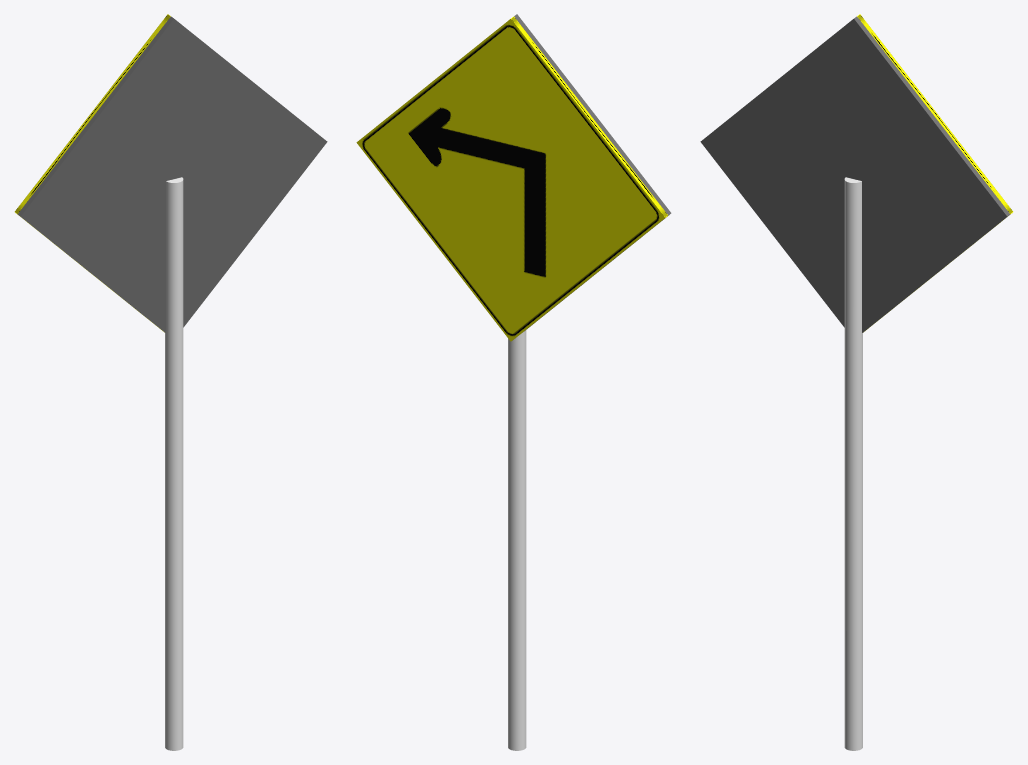
File: Sign_TurnLeft.obj
3 renders of one model, left to right at view 1: azimuth 30°, elevation 25°; view 2: azimuth 150°, elevation 25°; view 3: azimuth 330°, elevation 25°, orthographic.
Parts seen in each view (by area): view 1: Box003, Cylinder002, Box002; view 2: Box002, Cylinder002, Box003; view 3: Box003, Cylinder002, Box002.
Boxes of the visible parts, x1,y1,x2,y2 form: Box003: (17, 16, 327, 332); Cylinder002: (165, 177, 183, 750); Box002: (14, 14, 170, 332); Box002: (356, 16, 667, 341); Cylinder002: (508, 330, 526, 750); Box003: (514, 14, 671, 331); Box003: (700, 16, 1010, 332); Cylinder002: (844, 177, 862, 750); Box002: (857, 14, 1013, 332).
Bounding box in the file's own units: 56.57 × 128 × 3.48.
